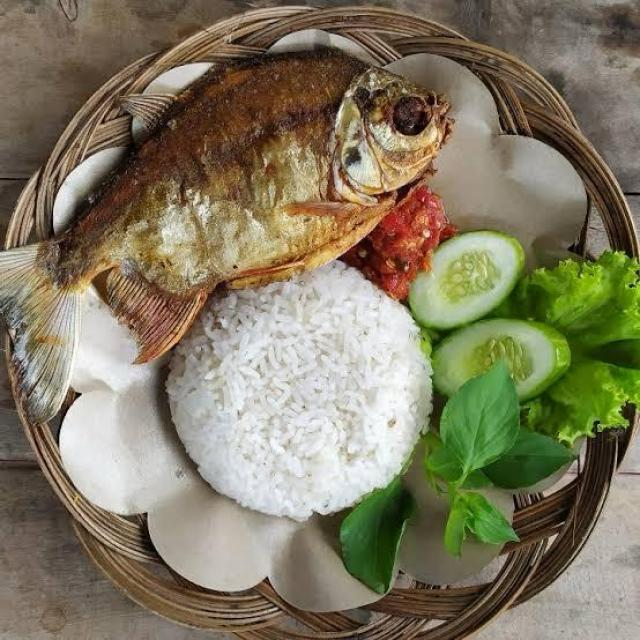Fish: (0, 48, 456, 428)
Plate: (60, 290, 378, 610)
Rice: (169, 261, 428, 514)
Vegetables: (342, 235, 640, 589)
